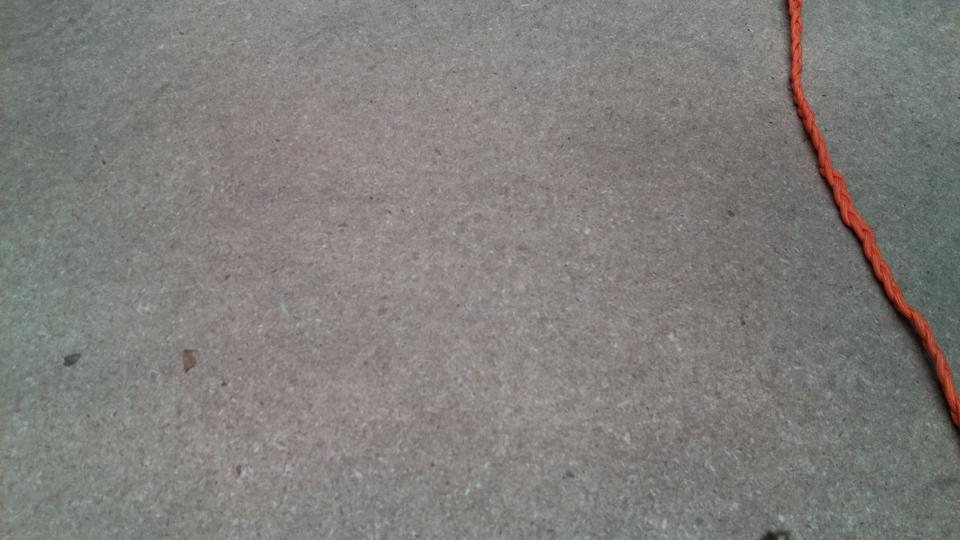rope: (779, 1, 959, 430)
